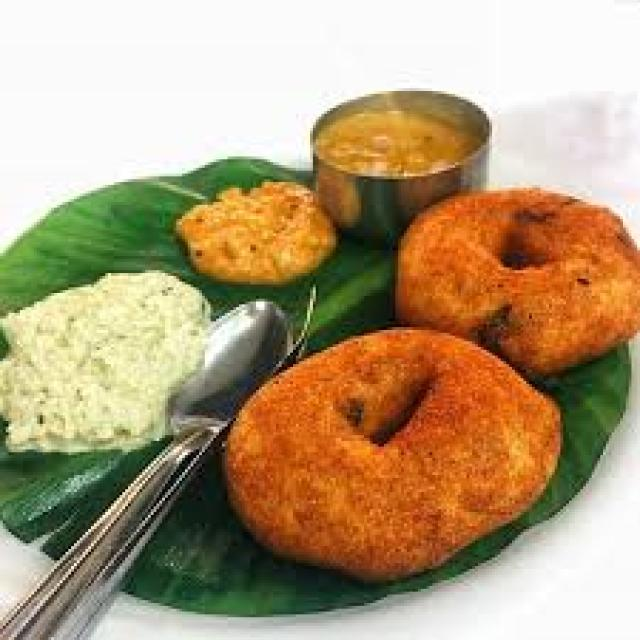MEDU VADA: (217, 324, 567, 573), (398, 185, 637, 372)
